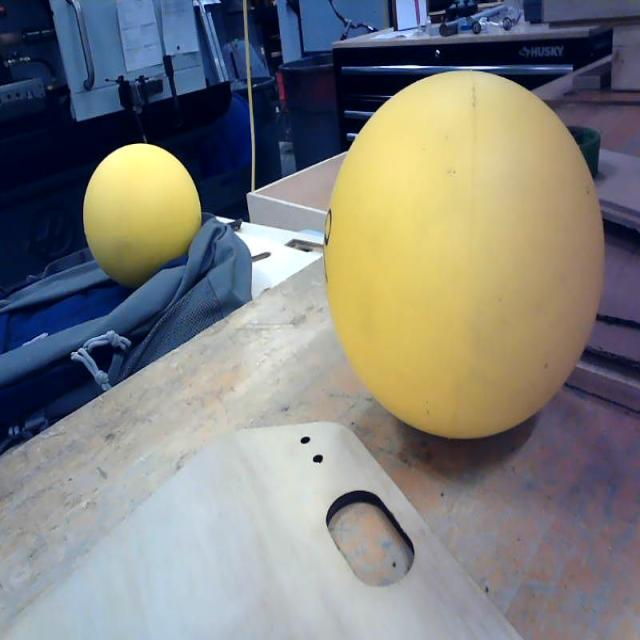Fuel: (324, 70, 604, 439), (83, 142, 201, 288)
